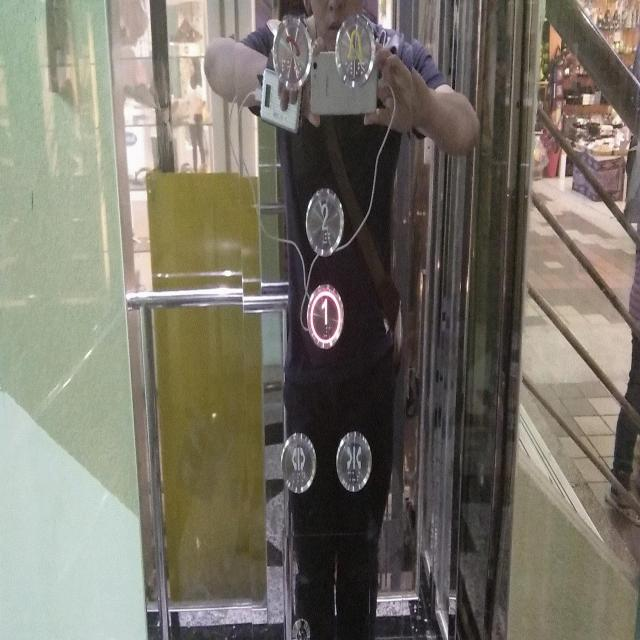1: (306, 280, 344, 352)
2: (304, 184, 344, 258)
alarm: (334, 11, 376, 87)
call: (272, 16, 312, 92)
close: (334, 428, 372, 495)
open: (280, 428, 317, 496)
